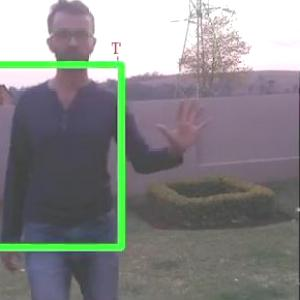follow_hand: (155, 96, 219, 153)
